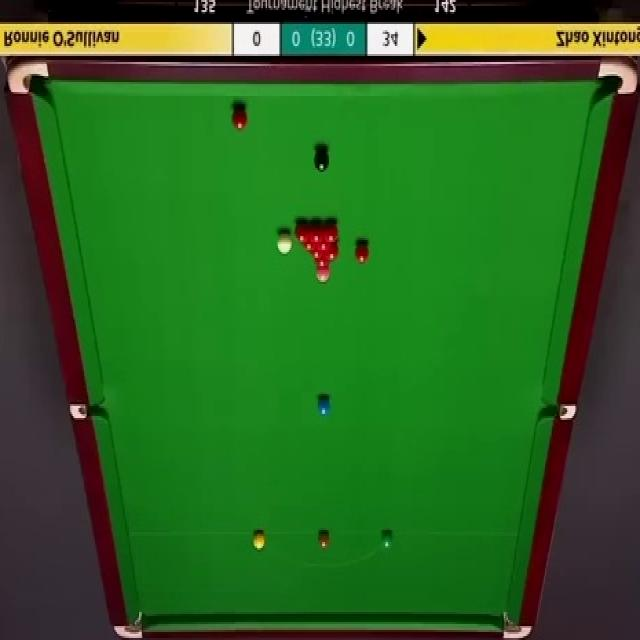black-ball: (314, 142, 332, 173)
blue-ball: (316, 393, 332, 418)
brown-ball: (317, 529, 331, 549)
green-ball: (380, 528, 394, 550)
pink-ball: (315, 271, 331, 282)
red-ball: (230, 104, 248, 131), (354, 240, 370, 264), (323, 220, 339, 244), (294, 220, 310, 244), (308, 223, 324, 244), (325, 243, 340, 260), (300, 240, 318, 252), (315, 240, 332, 252), (315, 258, 330, 270), (309, 249, 324, 260)
white-ball: (277, 230, 292, 256)
yellow-ball: (252, 530, 266, 550)
